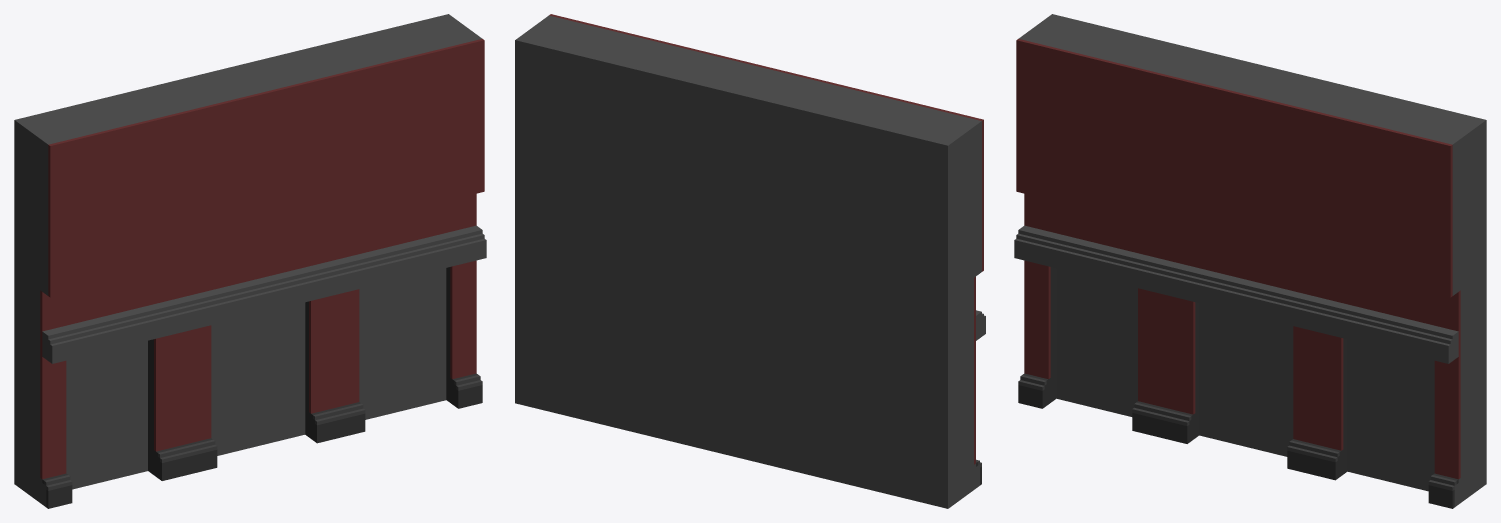
File: Movie theatre-1.obj
3 renders of one model, left to right at view 1: azimuth 30°, elevation 25°; view 2: azimuth 150°, elevation 25°; view 3: azimuth 330°, elevation 25°, orthographic.
Bounding box in the file's own units: 12.6 × 10.1 × 1.9.
Materials: 1 (1 with a texture image).
